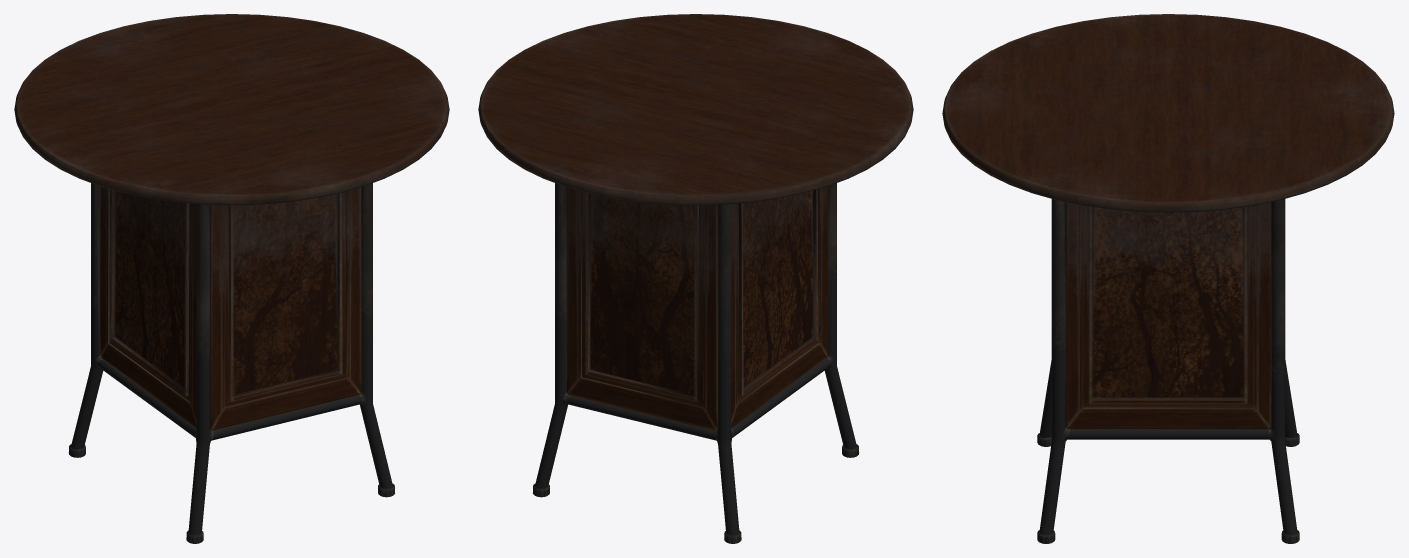
File: table.obj
3 renders of one model, left to right at view 1: azimuth 30°, elevation 25°; view 2: azimuth 150°, elevation 25°; view 3: azimuth 270°, elevation 25°, orthographic. The views are drawn at different scales.
Visible parts, largest first — view 1: round_wooden_table_02; view 2: round_wooden_table_02; view 3: round_wooden_table_02.
Part boxes in pixels (bbox=[...]): round_wooden_table_02: bbox=[14, 14, 449, 543]; round_wooden_table_02: bbox=[478, 14, 913, 543]; round_wooden_table_02: bbox=[942, 14, 1394, 543].
Bounding box in the file's own units: 0.7962 × 0.746 × 0.7962.
1 material, 1 textured.
